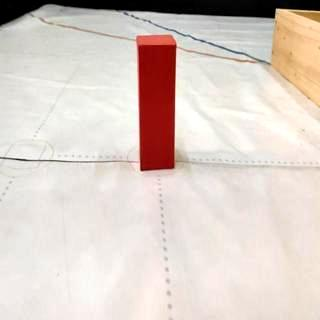redbox: (134, 34, 178, 172)
